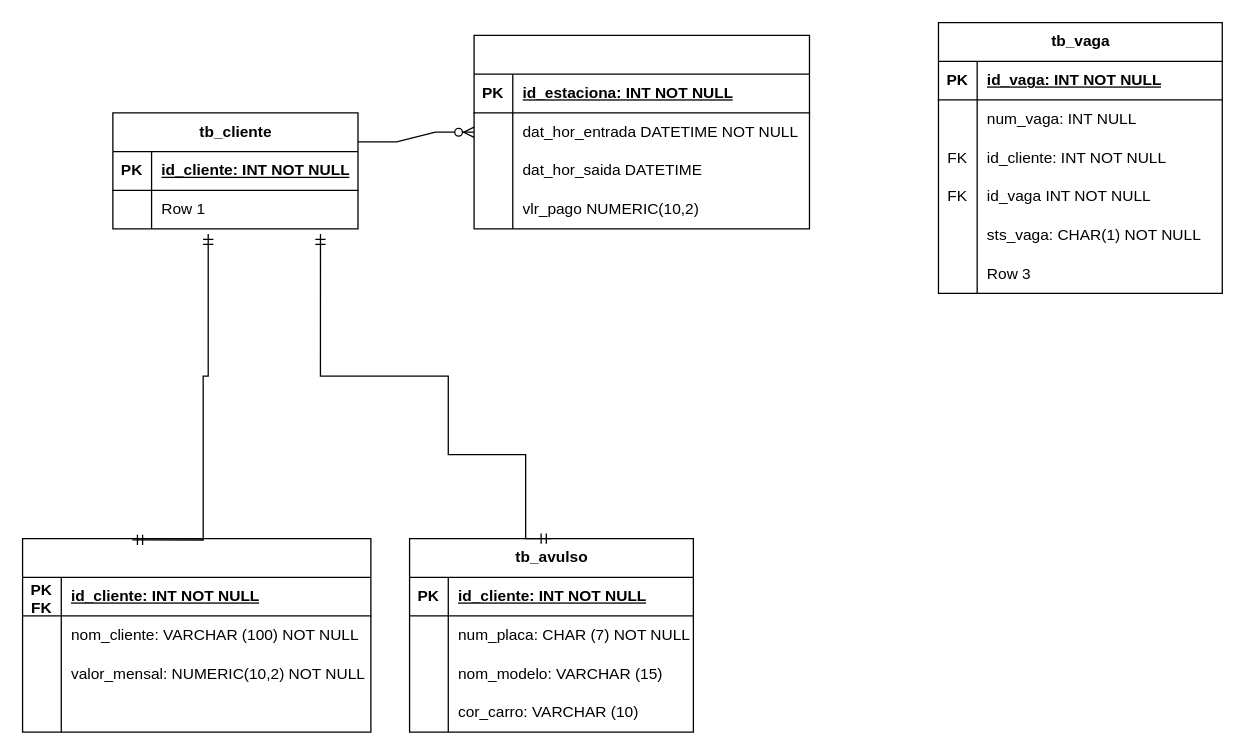
Some shapes in this 1245 by 755 pixel diagram are drawn without their labels. The shapes that lost their labels are listed below. From the top down, each one's box as (x1, y1, x2, y2) in pixels, then its label:
(473, 34, 809, 229): tb_estaciona
(21, 537, 371, 732): tb_mensalista
